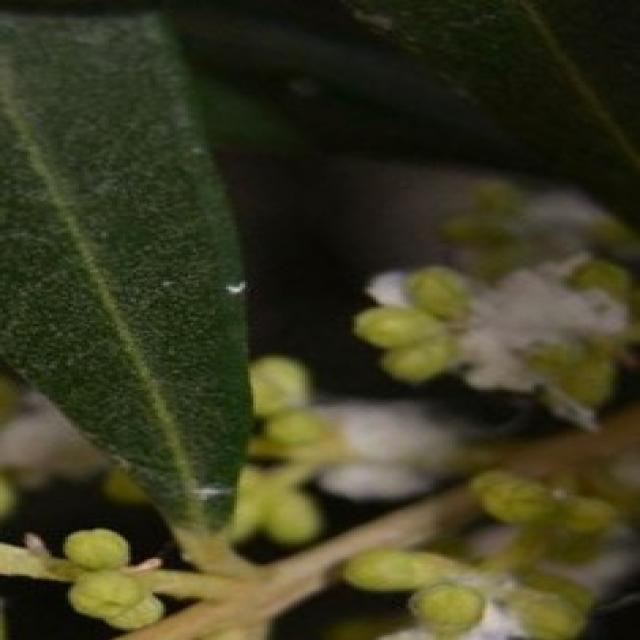Psyllid: (354, 181, 637, 426), (354, 473, 635, 638), (251, 356, 490, 502)
